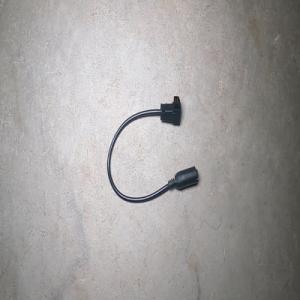Wire: (106, 95, 198, 203)
